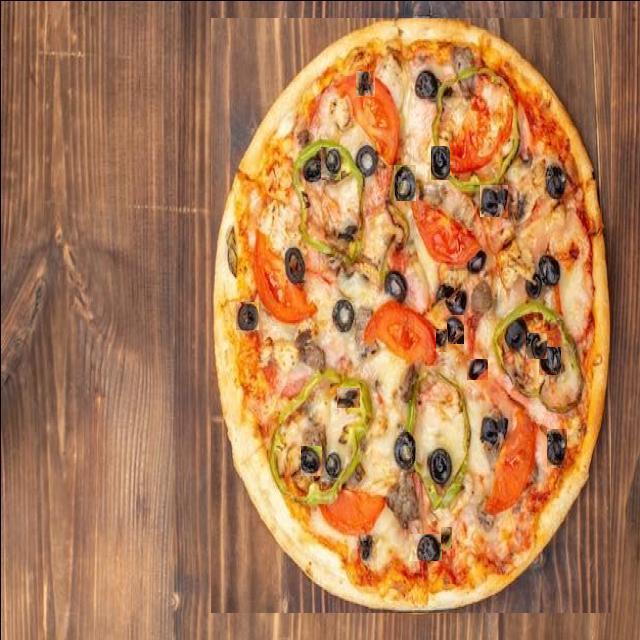olive: (406, 533, 441, 560), (479, 184, 507, 216), (282, 344, 306, 380), (332, 296, 354, 332), (393, 164, 415, 200), (546, 428, 566, 467), (320, 146, 340, 179), (430, 145, 449, 179), (235, 301, 258, 329), (300, 445, 321, 475), (538, 346, 560, 374), (386, 330, 406, 360), (356, 454, 378, 481), (525, 332, 546, 358), (446, 312, 463, 342), (355, 70, 374, 96), (336, 387, 359, 407), (466, 358, 487, 379), (435, 328, 447, 351), (440, 526, 451, 548)
pizza: (210, 17, 610, 612)
